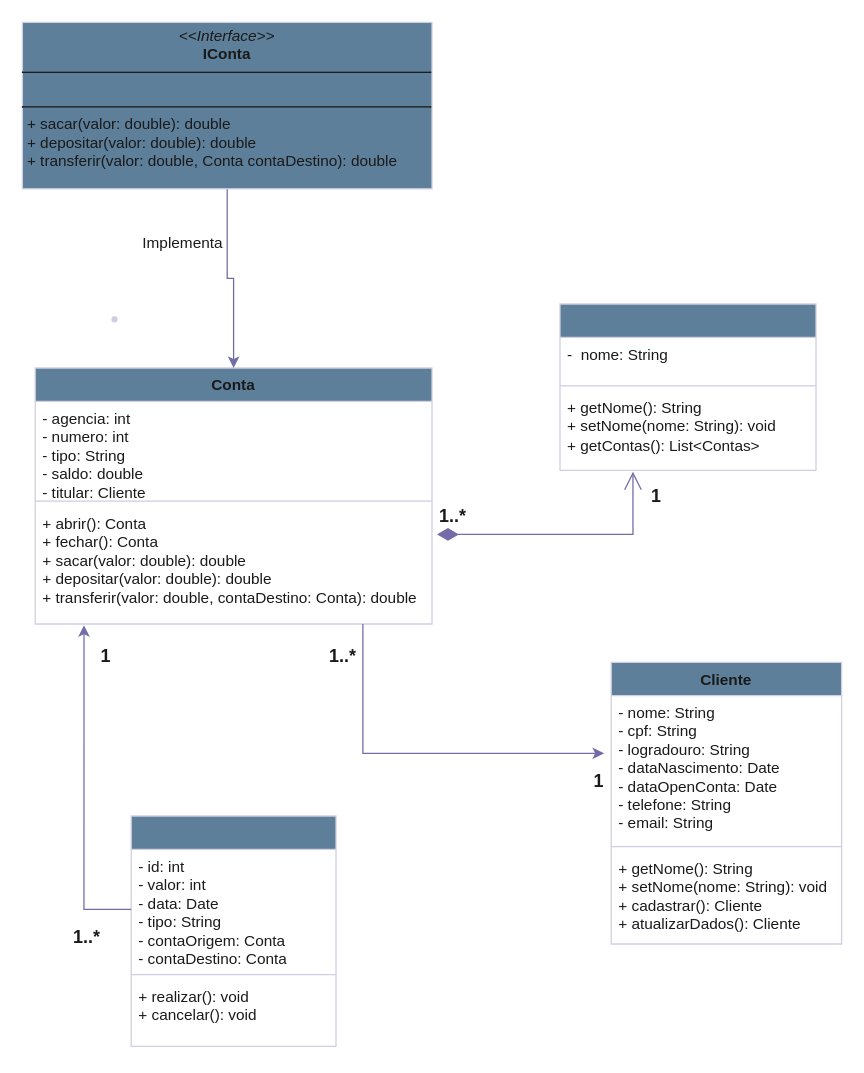
Some shapes in this 864 by 1073 pixel diagram are drawn without their labels. Here are the shapes that lost their labels. From the top down, the box of each, then its label:
(559, 303, 816, 470): InstituicaoFinanceira
(130, 815, 336, 1046): Transacao
